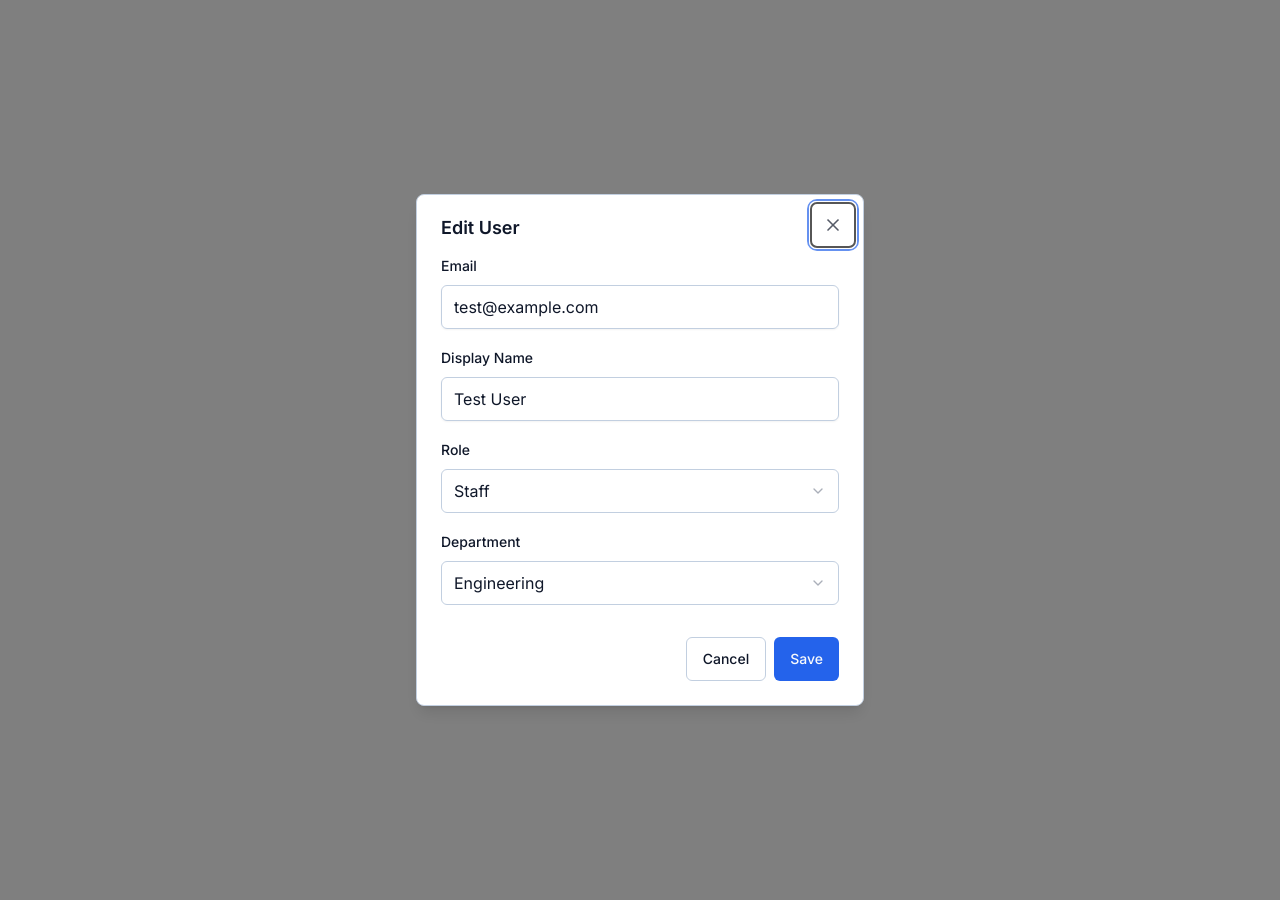
EditUserDialog › Story 7.5: Role Assignment › AC 1: admin sees staff, manager, admin options (not super_admin)
Expected: the field showing "Test User" is shown, [441,377,839,421]
Open role dropdown
Click the dropdown named "role". click: [472, 491]
box: [441,469,839,513]
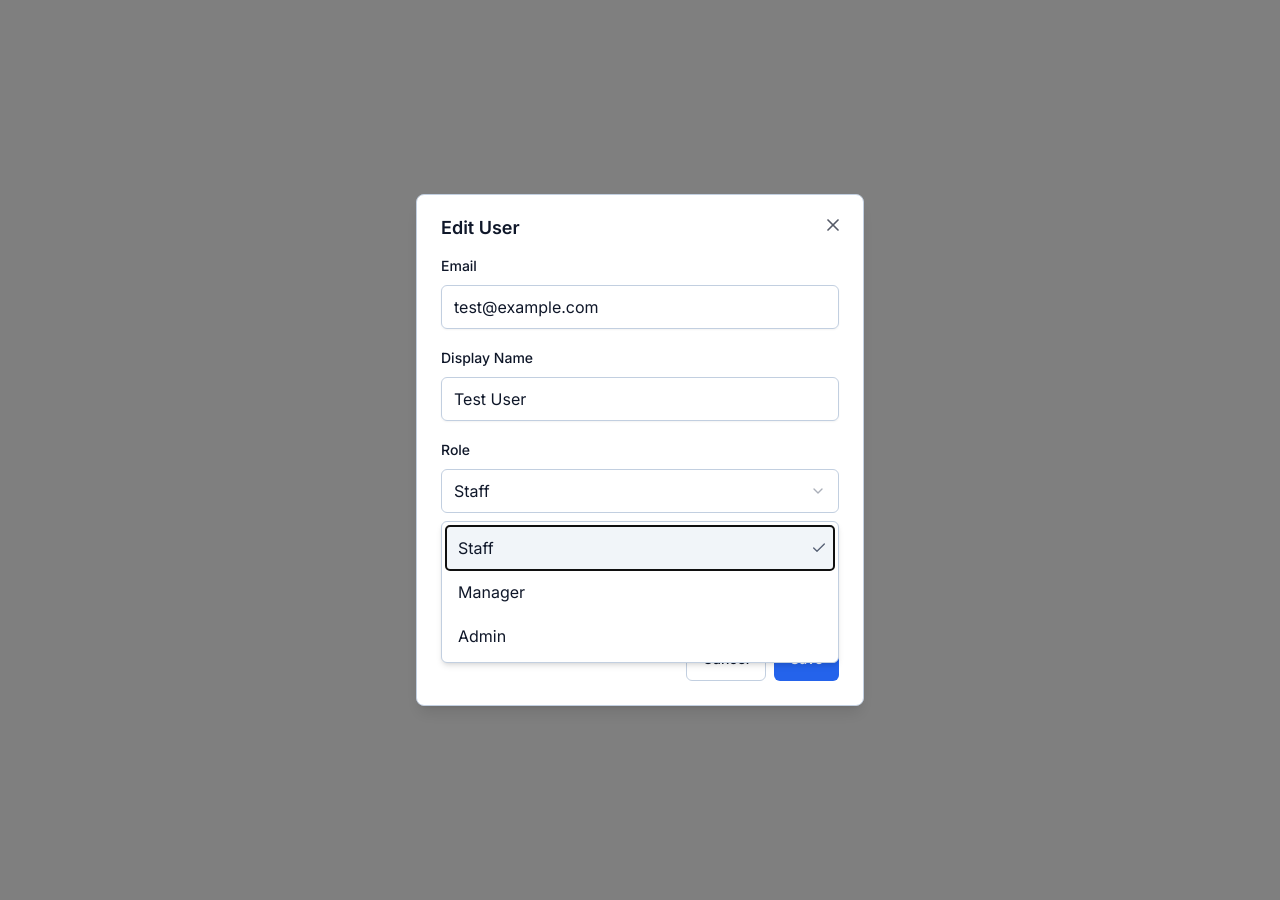
Expected: the option "Staff" is shown, [446,526,834,570]
Expected: the option "Manager" is shown, [458,582,525,602]
Expected: the option "Admin" is shown, [458,626,506,646]
